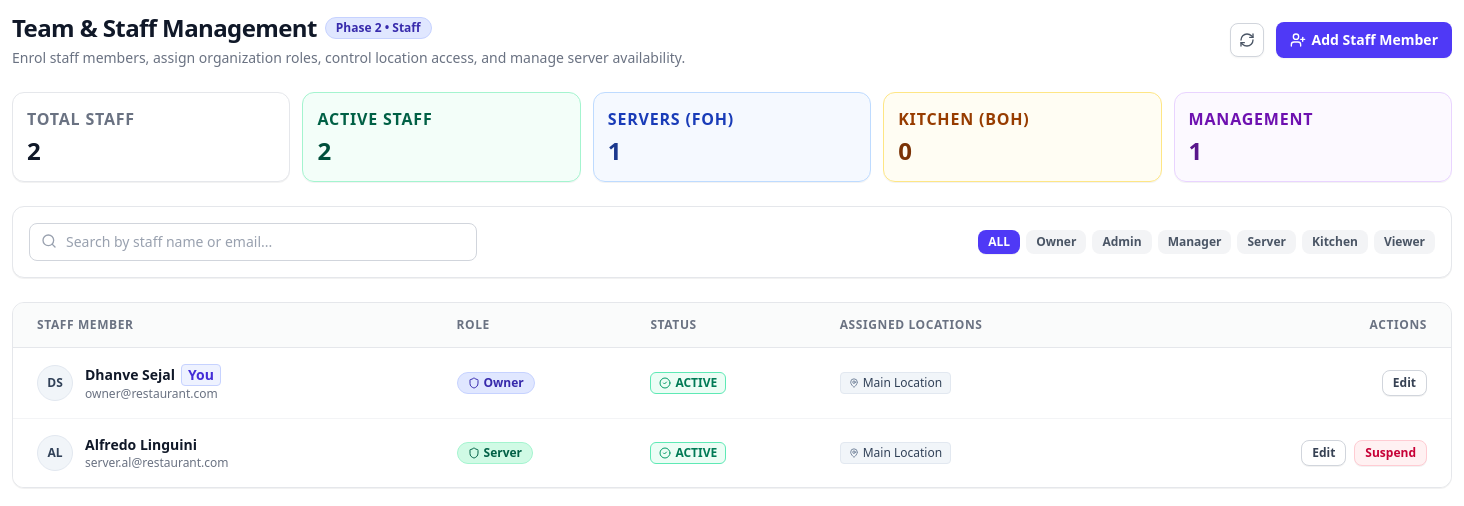
Test: TeamManagementPage Component › filters staff members by role pill
This screenshot has width=1464, height=506.
Expected: the text "Dhanve Sejal" is shown, x1=85 y1=365 x2=175 y2=385
Expected: the text "Alfredo Linguini" is shown, x1=85 y1=435 x2=197 y2=455
// Click 'Server' filter
Click the button "Server": (1267, 242) x1=1238 y1=230 x2=1296 y2=254
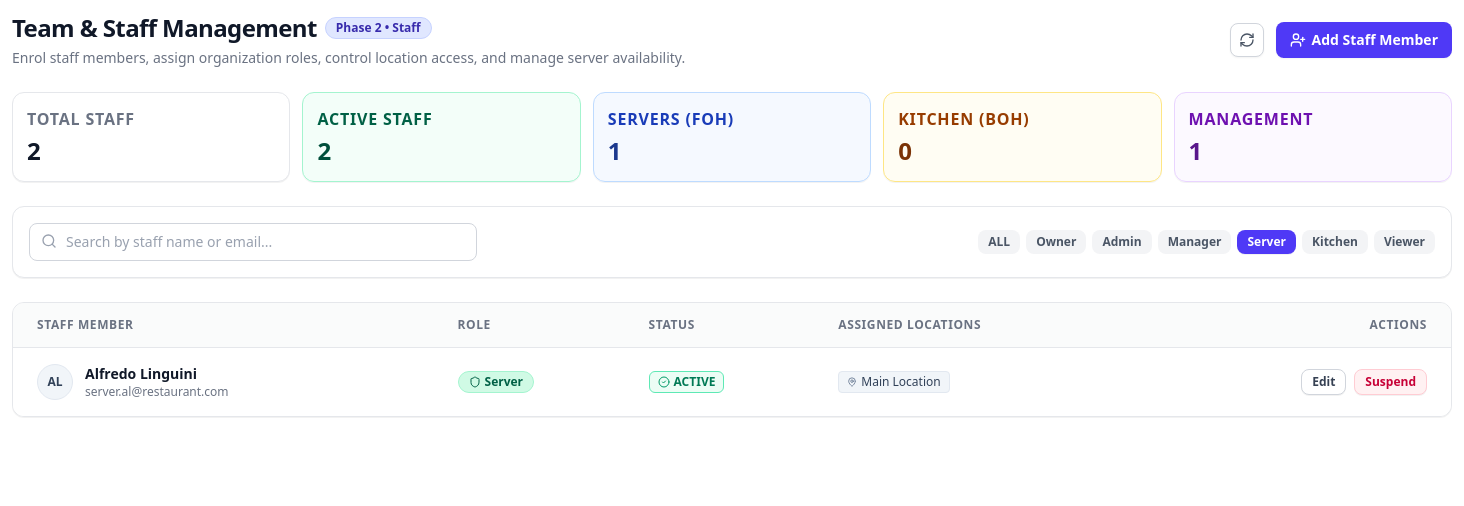
Expected: the text "Alfredo Linguini" is shown, x1=85 y1=364 x2=197 y2=384
Now the text "Dhanve Sejal" is gone
